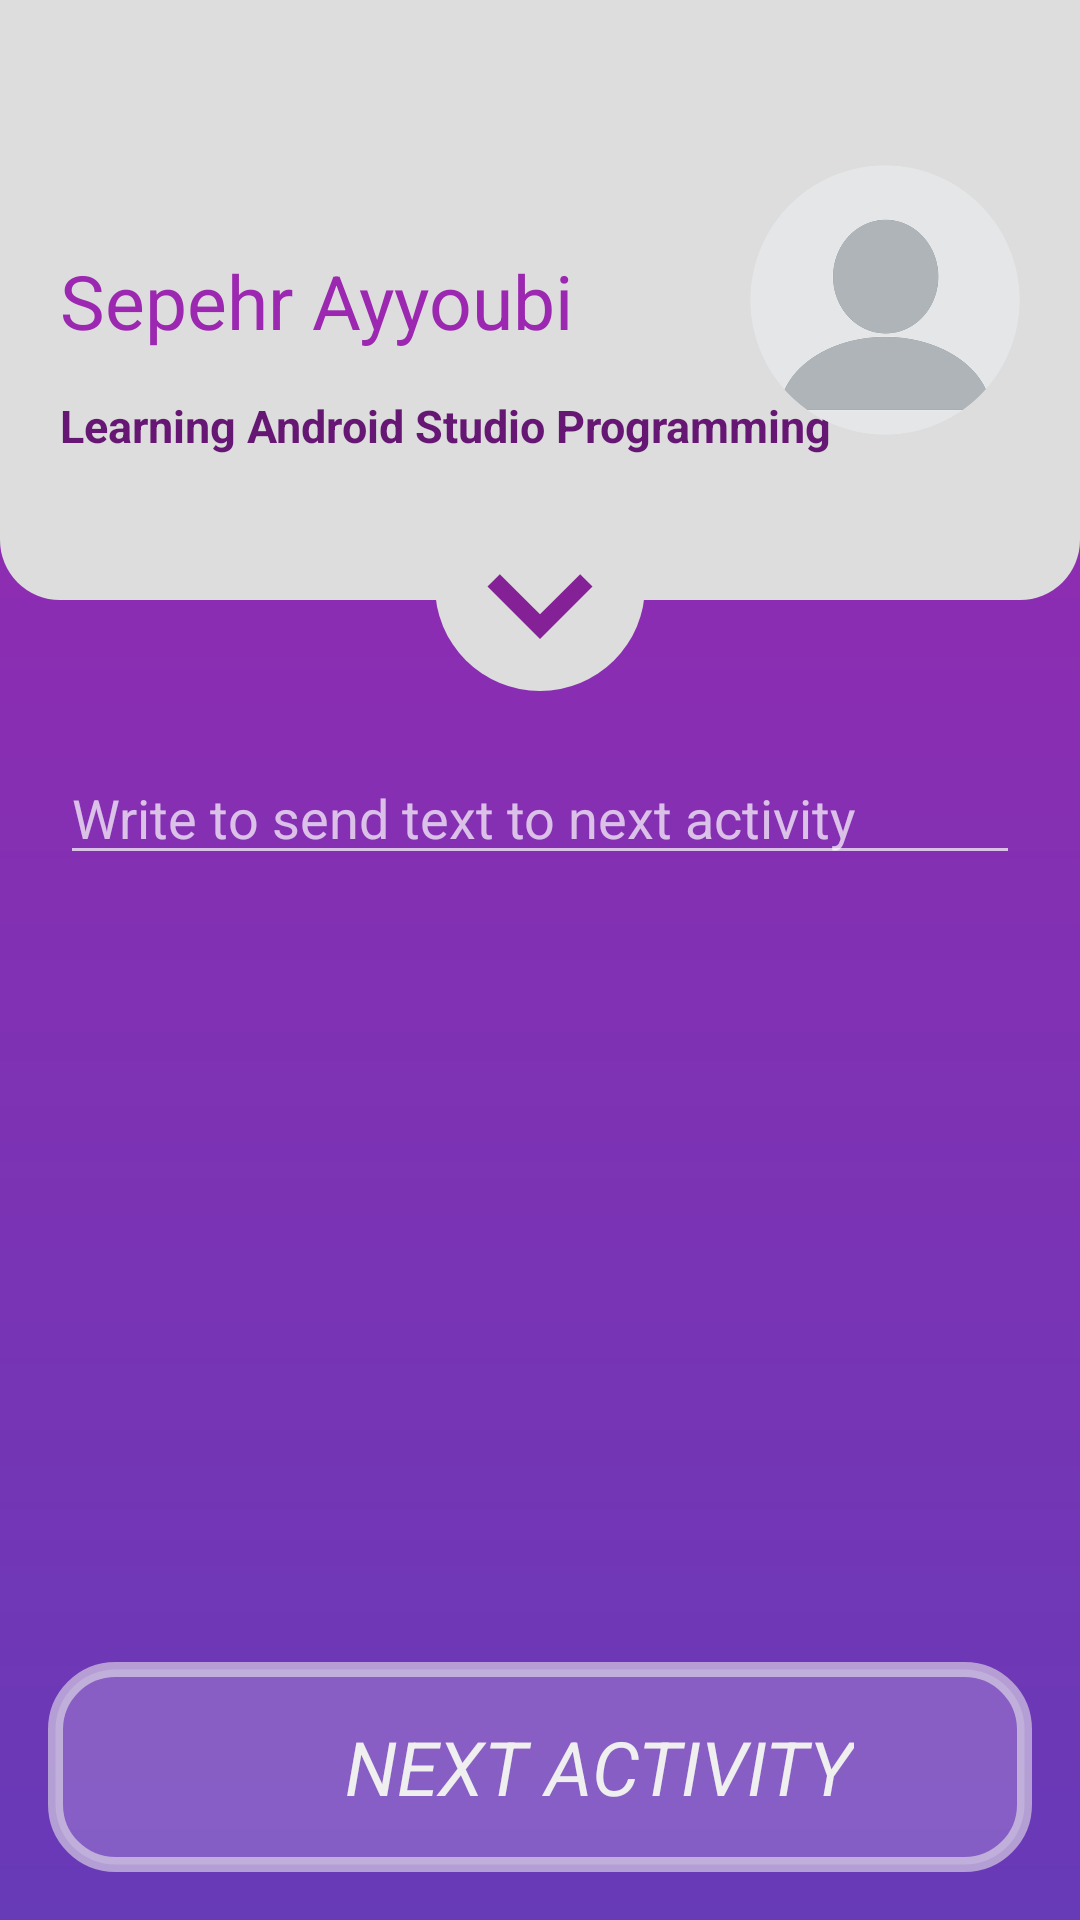

Where to tap for icons on this 1080w x 1920h app screen, as (x=x, y=y):
down arrow: (x=540, y=595)
Profile Image: (x=884, y=300)
